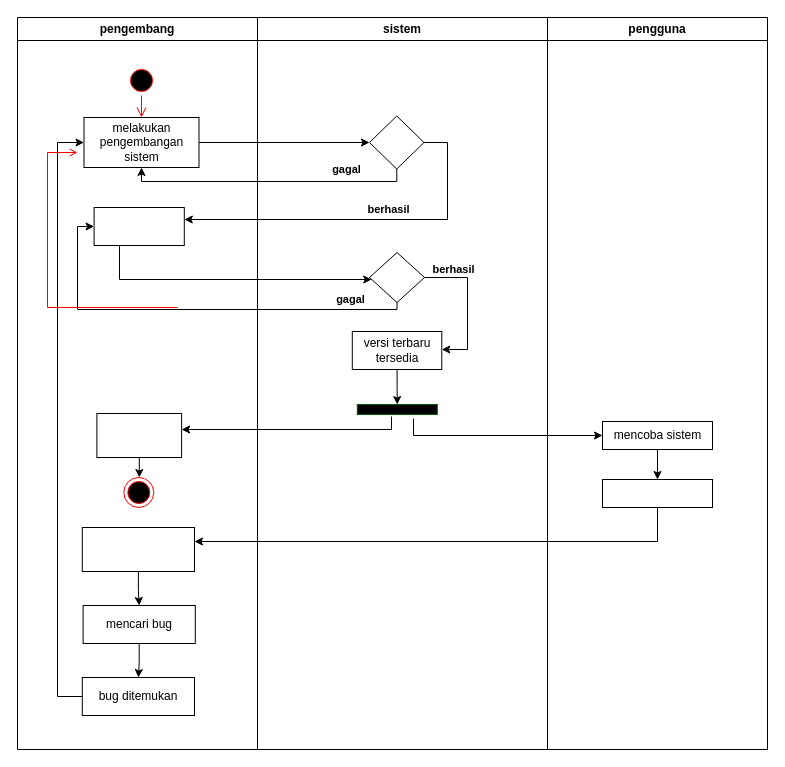
Some shapes in this 785 by 767 pixel diagram are drawn without their labels. The centre of each missing label's shape, as x and y in pixels:
melaporkan bug: point 657,493
menerima laporan bug: point 137,549
release update sistem: point 138,226
update berita di web: point 139,435
